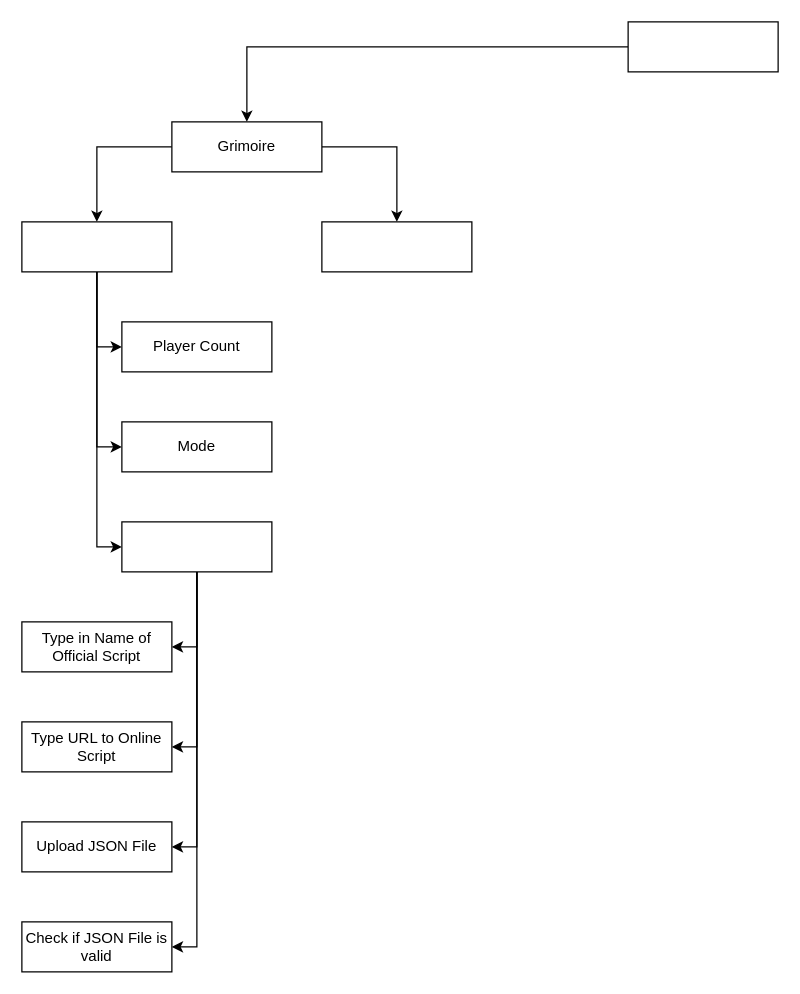
Some shapes in this 800 by 994 pixel diagram are drawn without their labels. Here are the shapes that lost their labels. From the top down, the box of each, then its label:
(627, 21, 778, 72): Grimoire App
(21, 221, 172, 272): Grimoire Creation
(321, 221, 472, 272): Grimoire Usage
(121, 521, 272, 572): Script Selection
